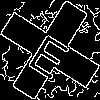E: (25, 25, 78, 81)
